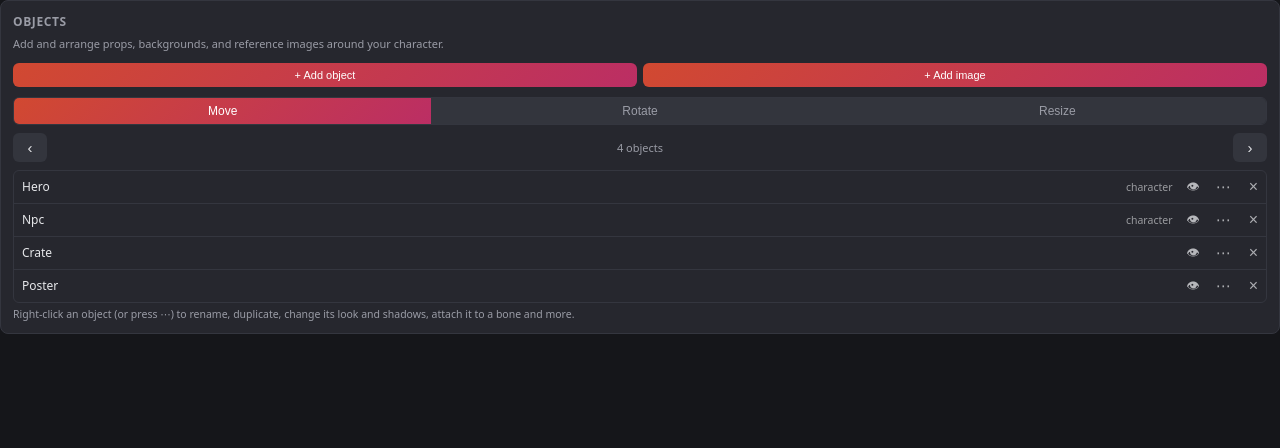
Objects panel: colour › appears only once a recolourable object is selected
Expected: the field labelled "Colour" is not shown
Click the element showing "Crate 👁 ⋯ ×".
click(640, 253)  # box [14, 236, 1266, 270]
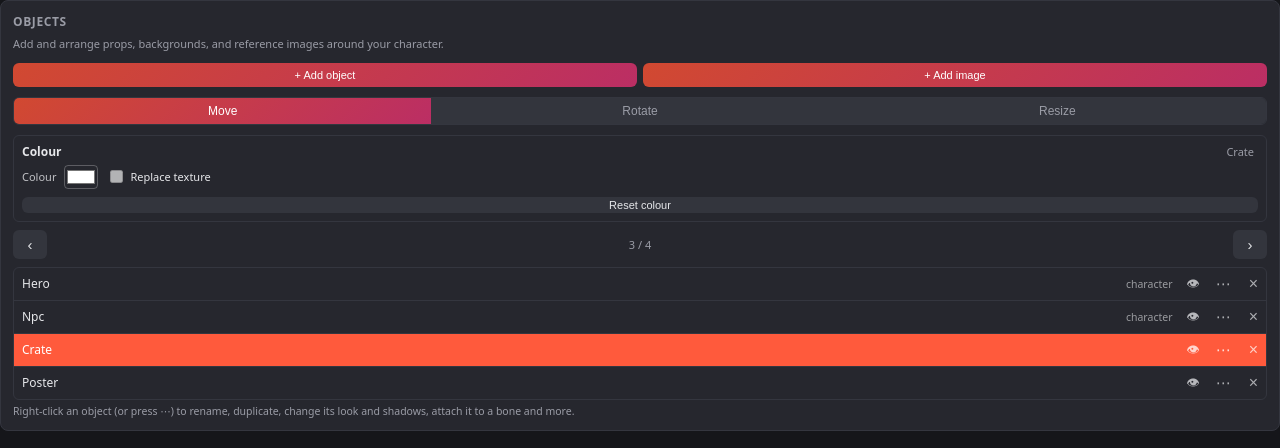
Result: the colour field named "Colour" is shown at [64, 164, 98, 188]
